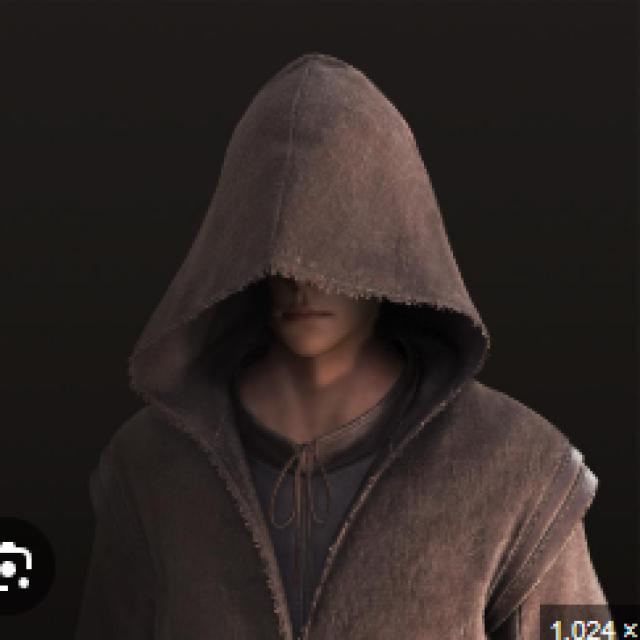4_capucha: (123, 45, 491, 408)
